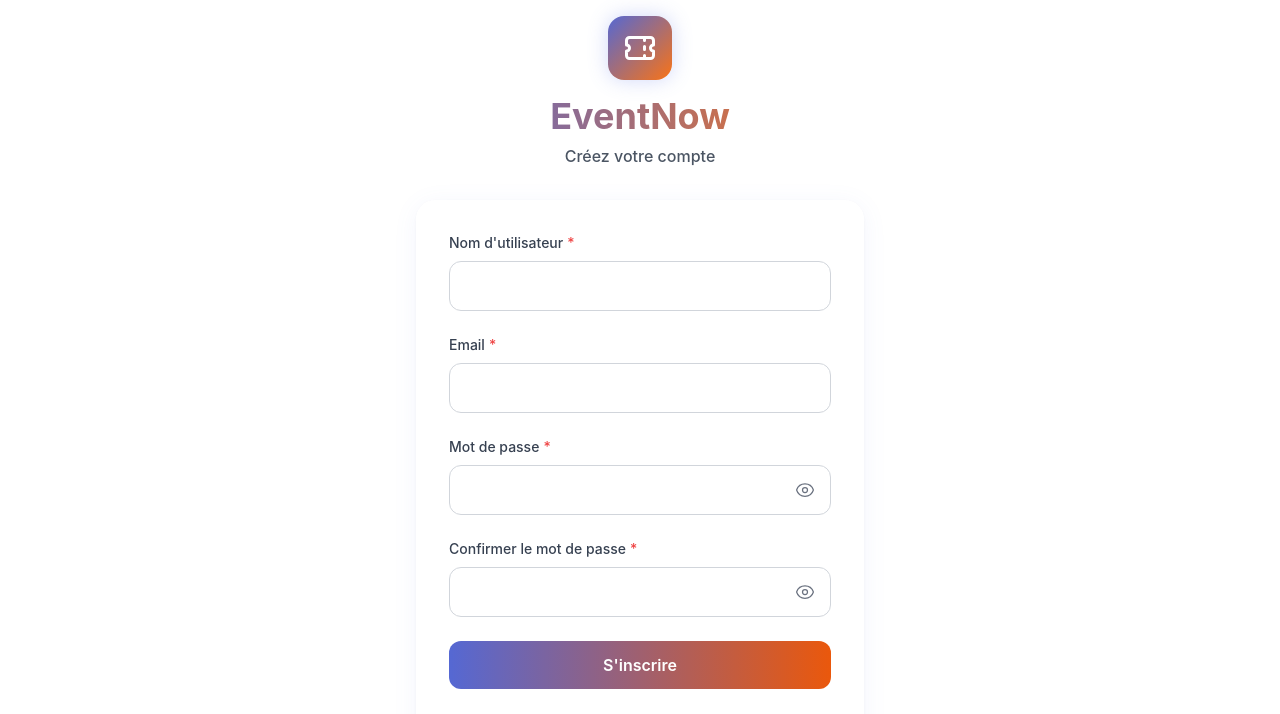
it: RegisterPage - submission › shows the backend error message on failure
Type "alice" into the field labelled "Nom d'utilisateur*" at (640, 286), box left=449, top=261, right=831, bottom=311
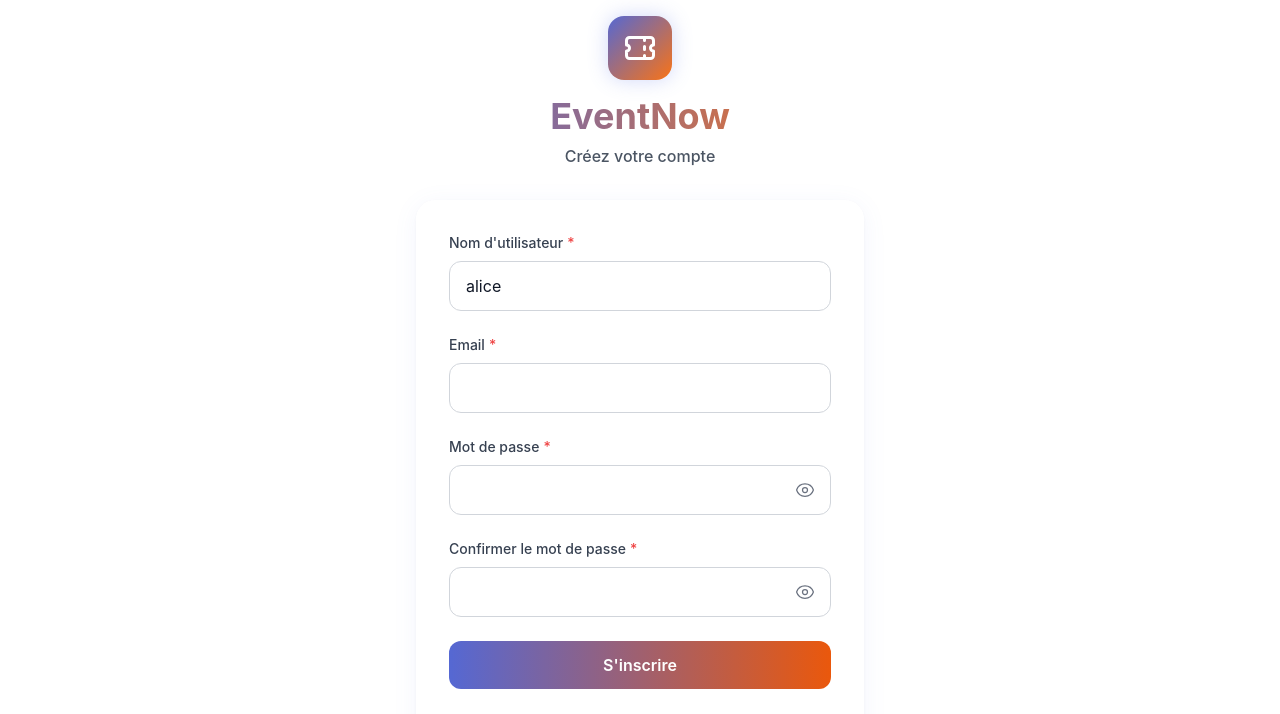
Type "alice@example.com" into the field labelled "Email*" at (640, 388), box left=449, top=363, right=831, bottom=413
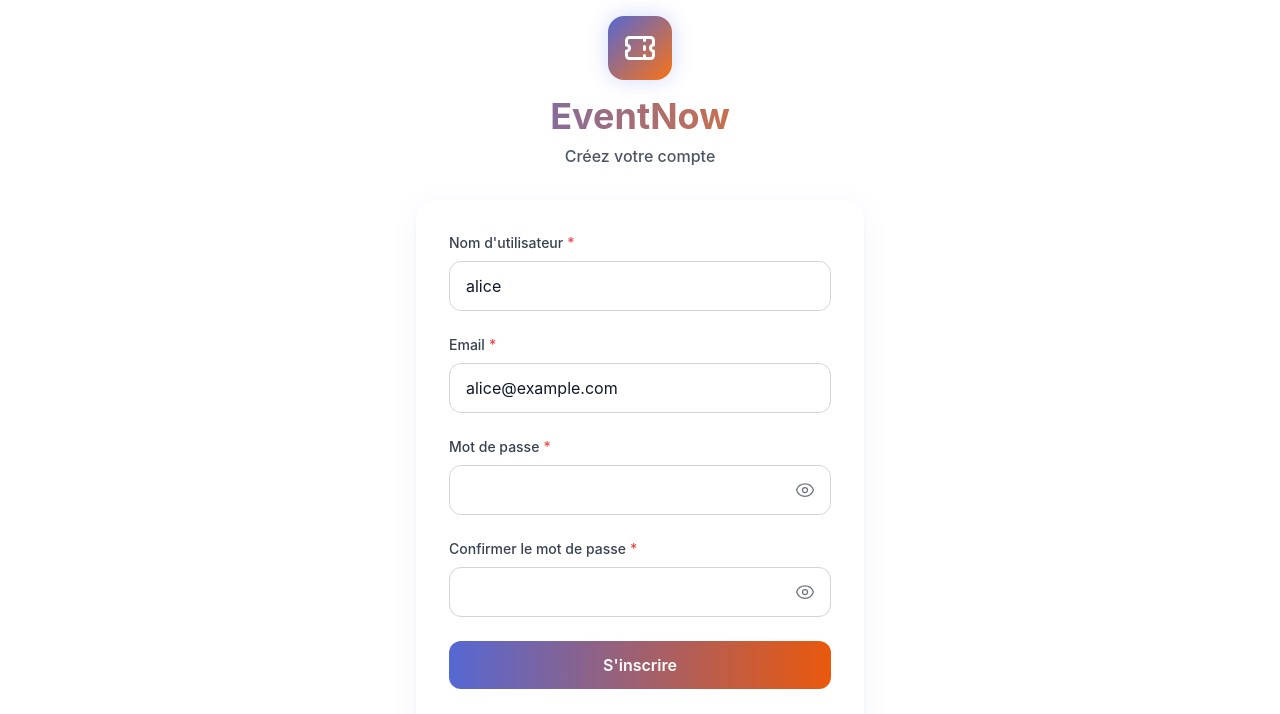
Type "password123" into the password field labelled "Mot de passe*" at (640, 490), box left=449, top=465, right=831, bottom=515
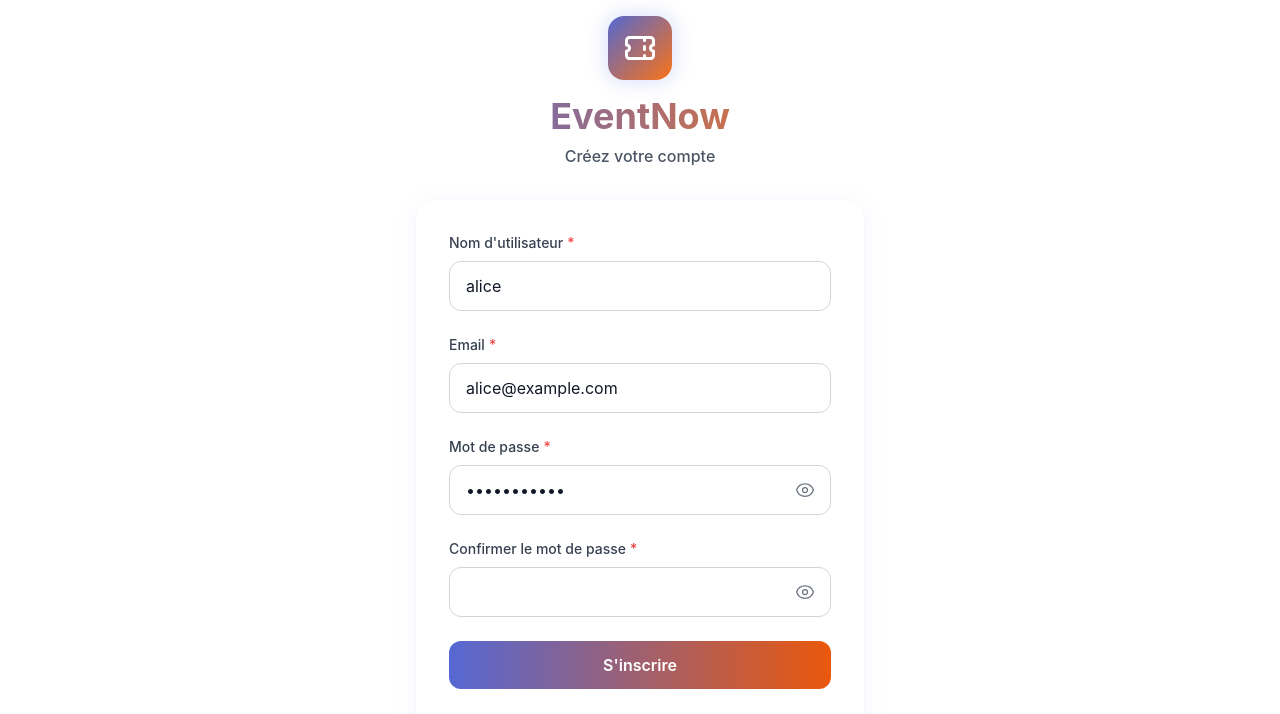
Type "password123" into the password field labelled "Confirmer le mot de passe*" at (640, 592), box left=449, top=567, right=831, bottom=617
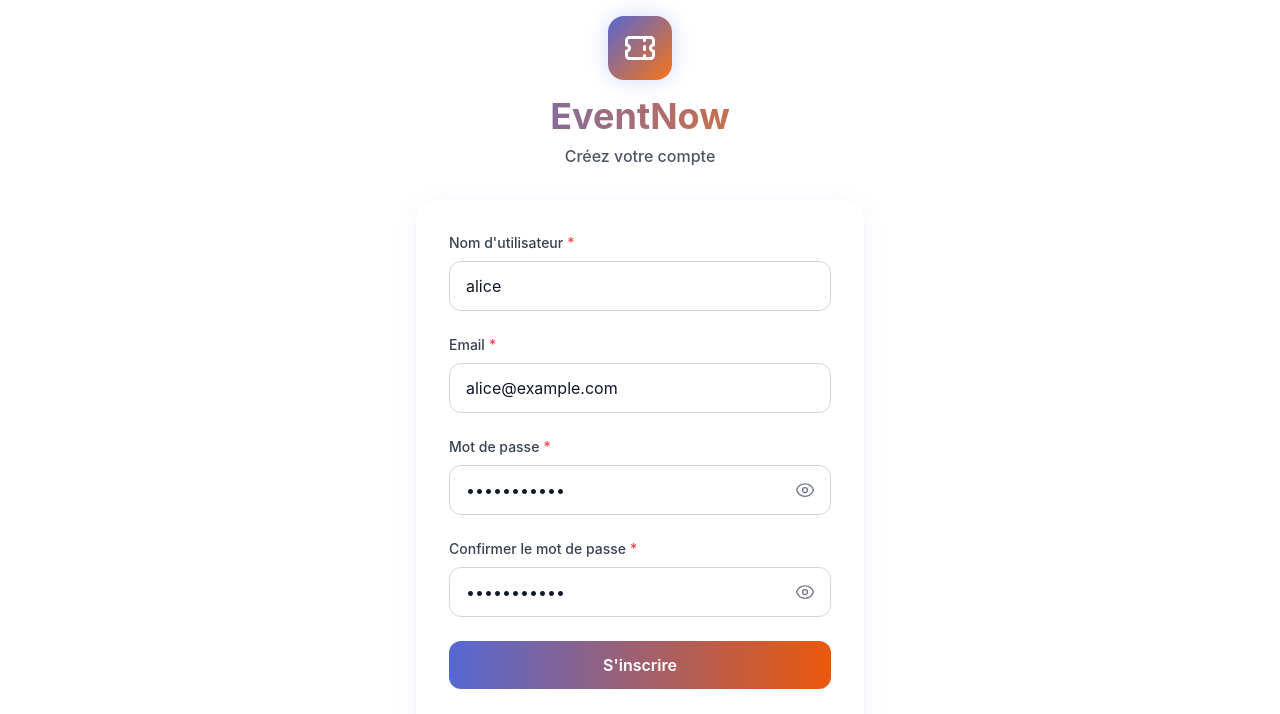
Click the button "S'inscrire" at (640, 665), box left=449, top=641, right=831, bottom=689
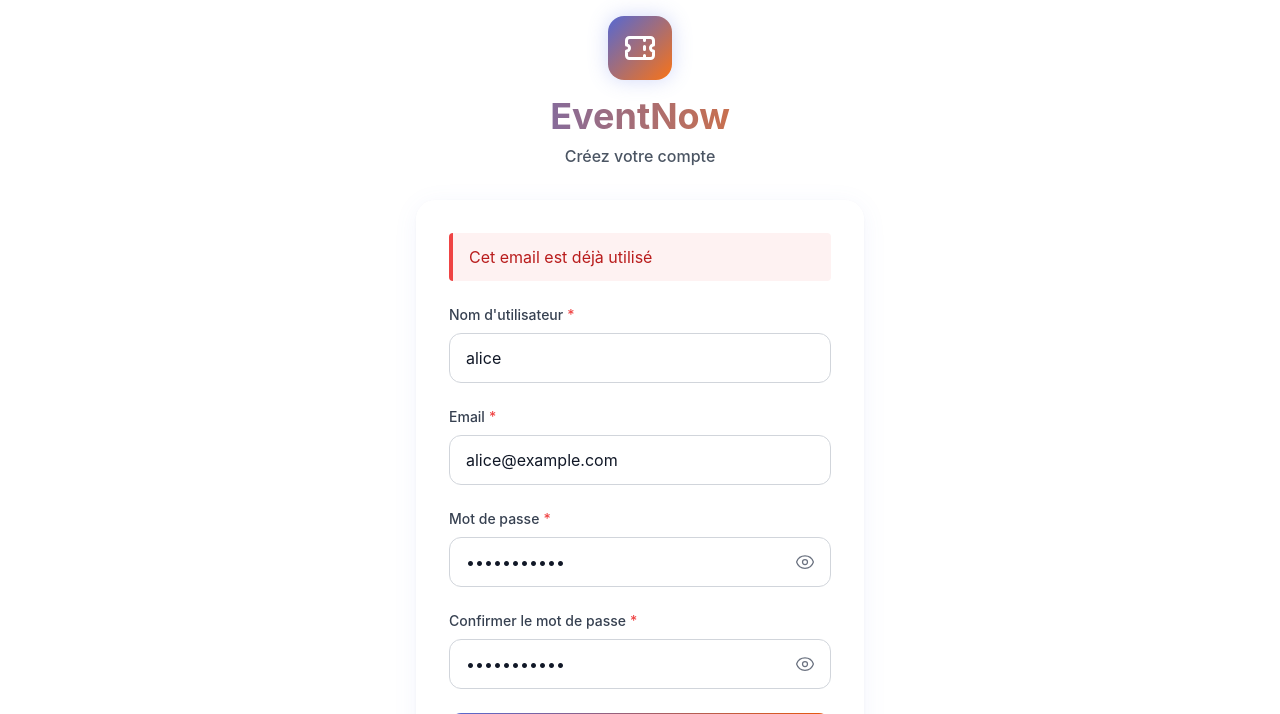
expect the text "Cet email est déjà utilisé" is shown: met, box left=469, top=245, right=652, bottom=269
